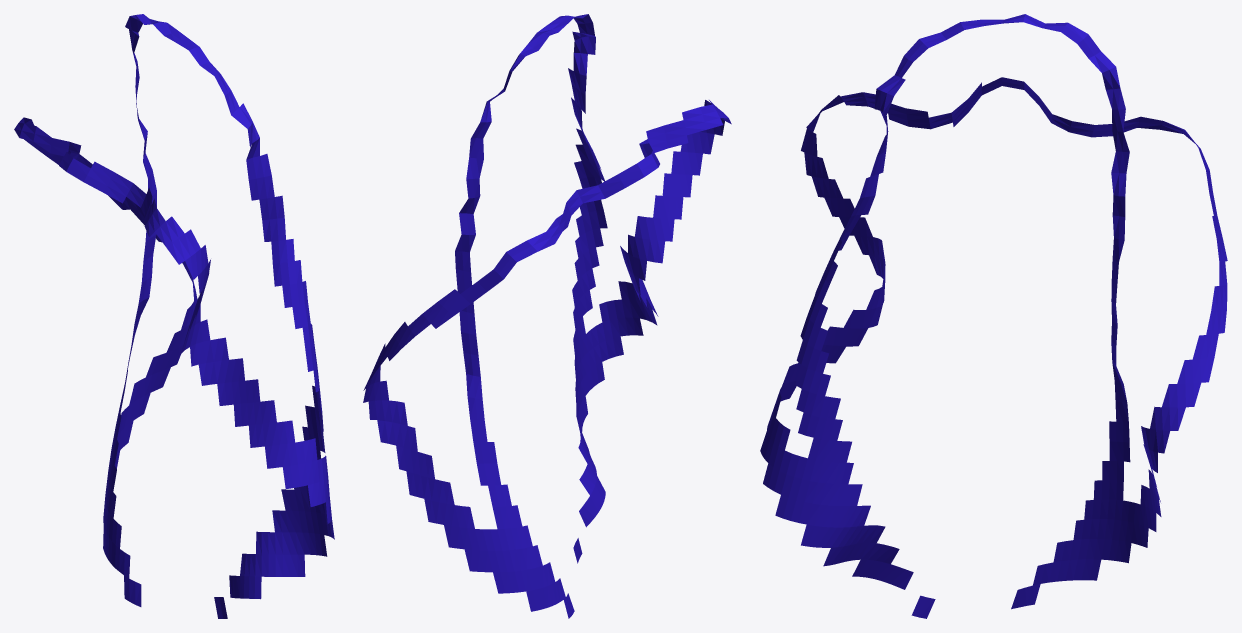
The model's file is selected_mesh2.obj.
3 views of the same model, side by side, from view 1: azimuth 30°, elevation 25°; view 2: azimuth 150°, elevation 25°; view 3: azimuth 270°, elevation 25° (orthographic). The views are drawn at different scales.
Size of the model in its own units: 0.2733 by 0.7122 by 0.4986.
